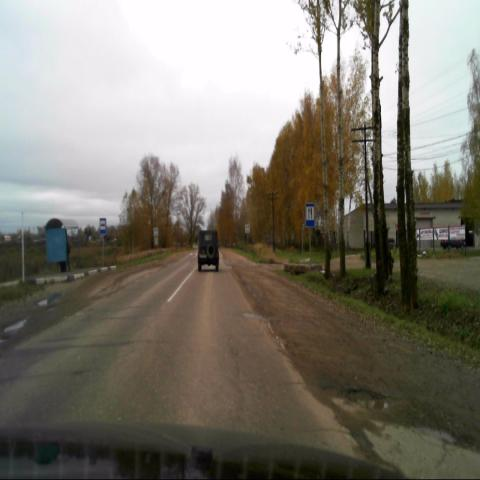7_7: (305, 202, 314, 226)
